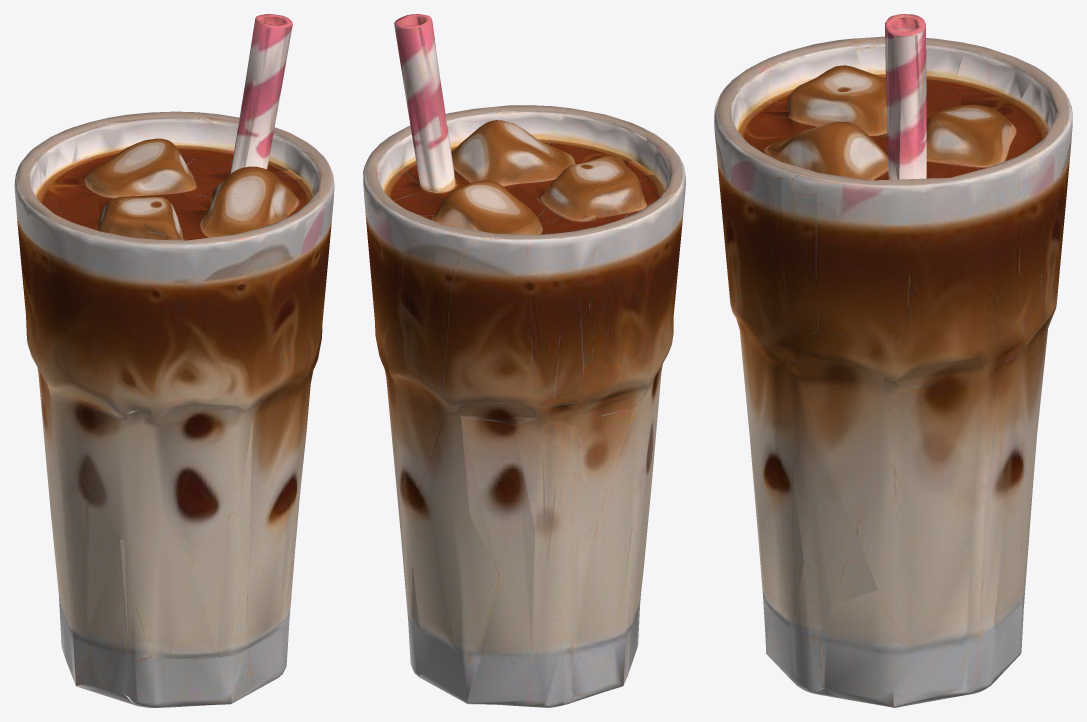
File: glass_iced.gltf
3 renders of one model, left to right at view 1: azimuth 30°, elevation 25°; view 2: azimuth 150°, elevation 25°; view 3: azimuth 270°, elevation 25°, orthographic. The views are drawn at different scales.
Parts seen in each view (by area): view 1: glass_iced; view 2: glass_iced; view 3: glass_iced.
Boxes of the visible parts, x1,y1,x2,y2 form: glass_iced: (14, 14, 334, 707); glass_iced: (363, 14, 685, 707); glass_iced: (714, 14, 1072, 707).
Size of the model in its own units: 0.5172 by 1.1 by 0.5169.
1 material, 1 textured.
